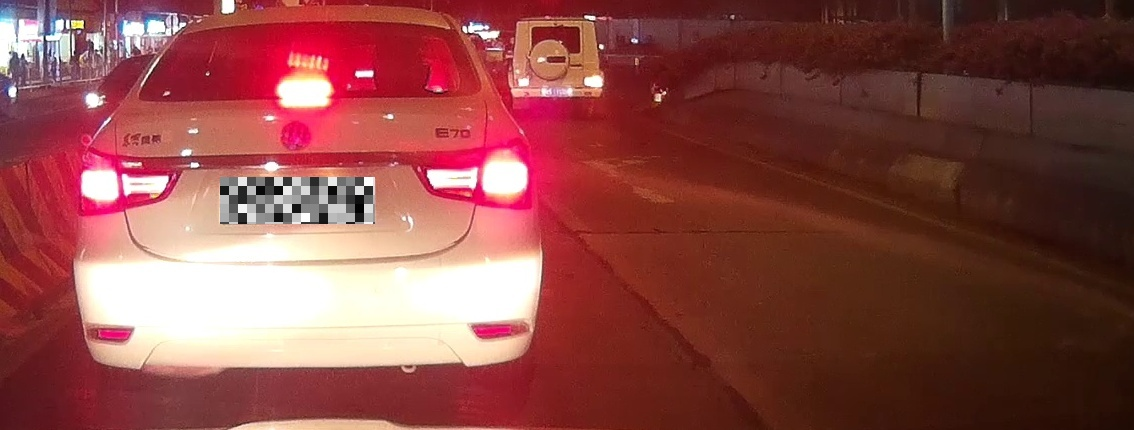L_light: (77, 146, 184, 217)
R_light: (409, 138, 533, 209)
T_light: (277, 82, 333, 98)
night-no: (73, 6, 543, 389)
plate_1: (220, 177, 375, 224)
